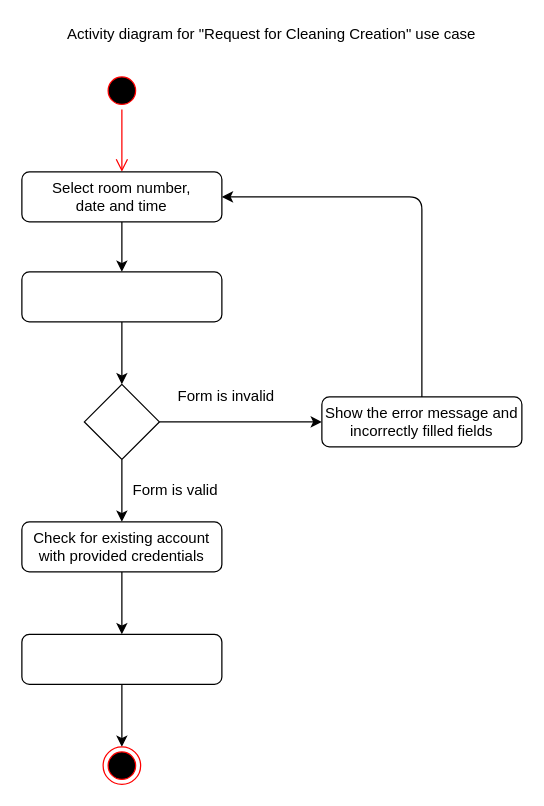
The diagram is 544 pixels wide and 806 high, and some of its shapes have lost their labels. The centre of each missing label's shape, as x and y in pixels:
Request with status "New" is created: pixel 121 658
Validate input: pixel 121 296
